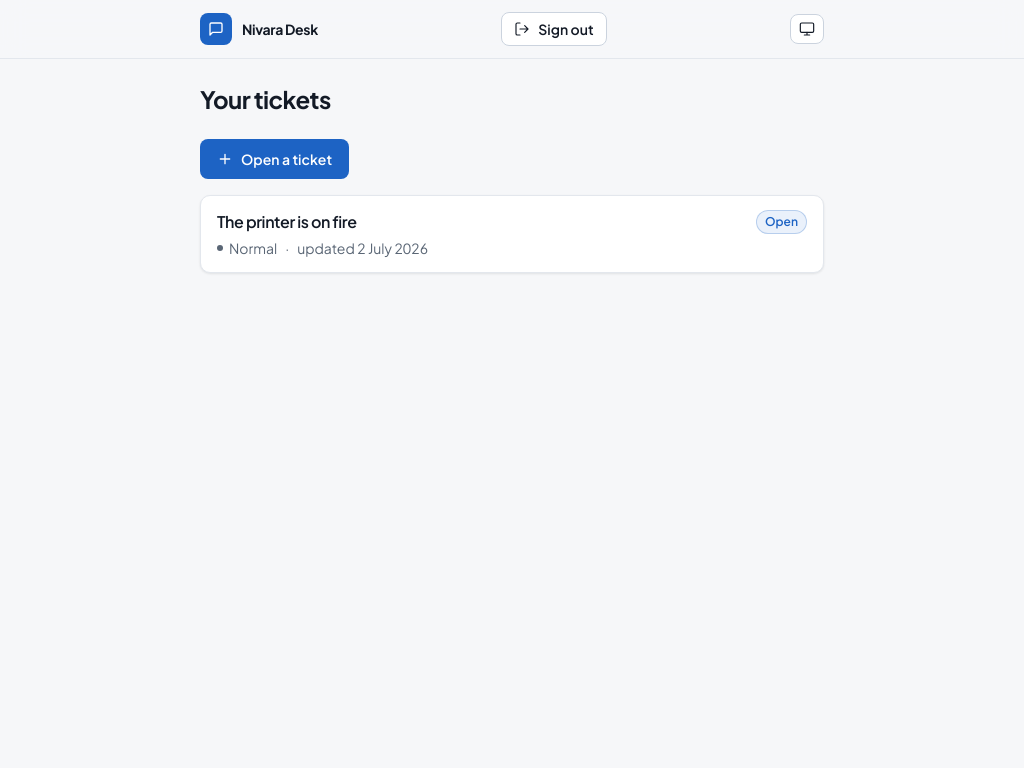
it: replying to a Ticket › follows the Ticket the API answered with, not the one replied to
The image size is (1024, 768).
Click the button "The printer is on fire Normal · updated 2 July 2026 Open" at (287, 222), box [201,196,823,272]
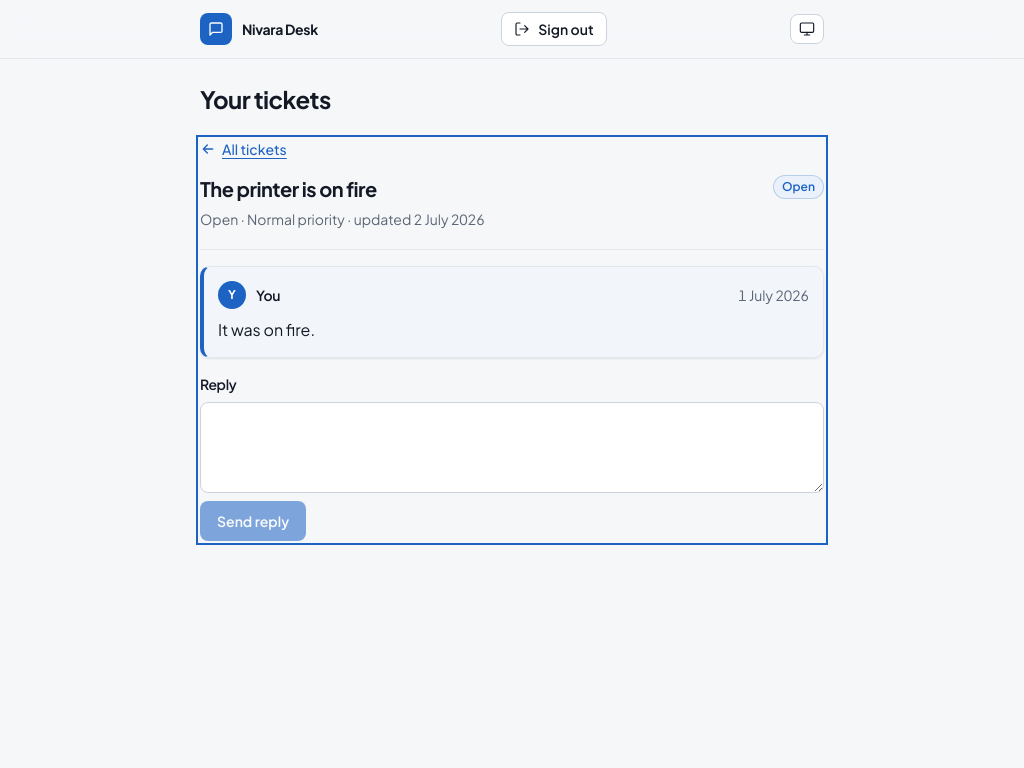
Check: the list named "conversation" is shown, box [200,266,824,358]
Type "Any news?" into the text box labelled "Reply" at (512, 448), box [200,402,824,493]
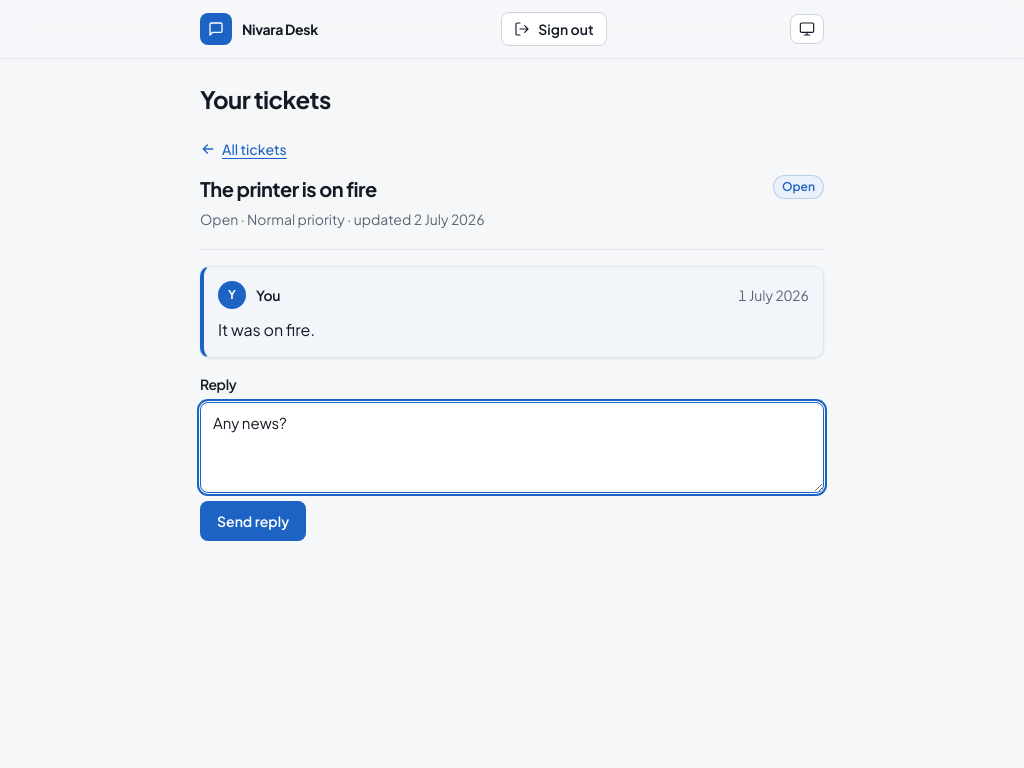
Click the button "Send reply" at (253, 521), box [200,501,306,541]
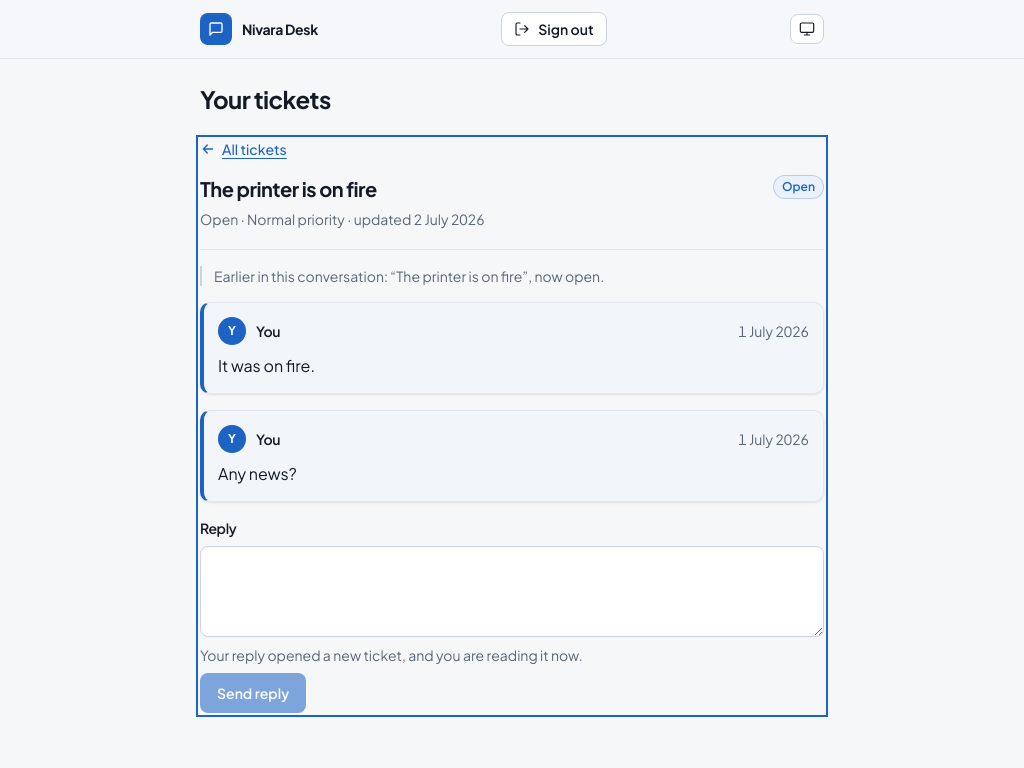
Check: the text "Any news?" is shown, box [218,463,297,484]
